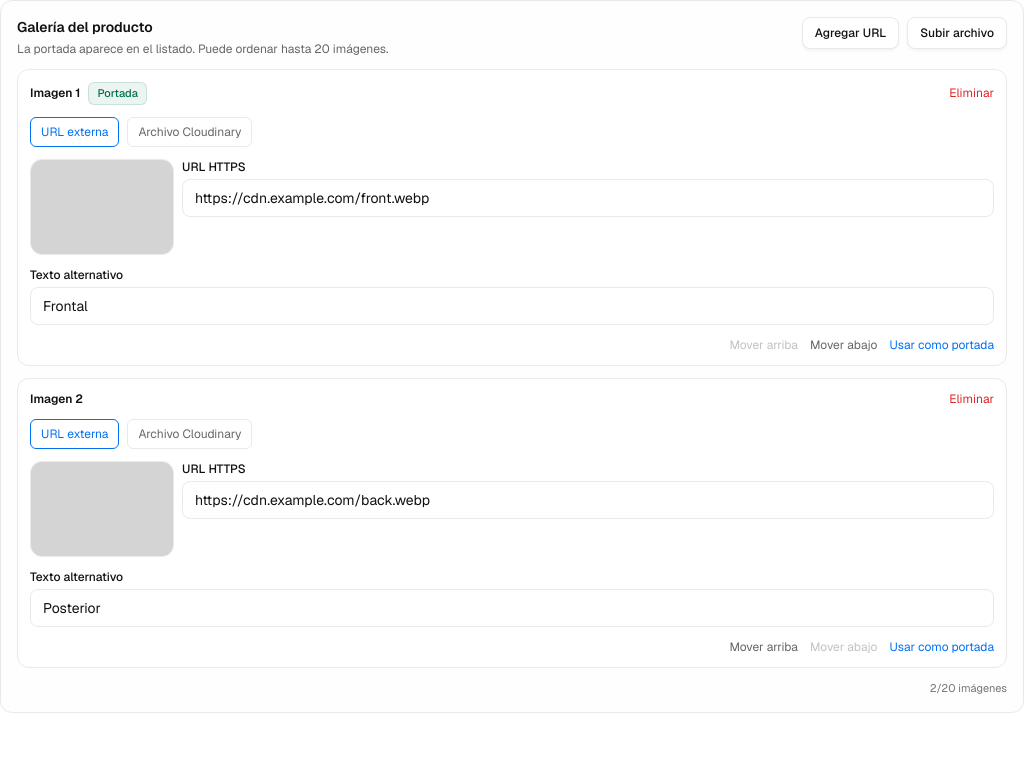
Test case: ProductImagesEditor › permite cambiar portada, ordenar y quitar imágenes
Expected: the text "2/20 imágenes" is shown, [930, 680, 1007, 694]
Click the 2nd button "Usar como portada" at (942, 646), box [890, 638, 994, 654]
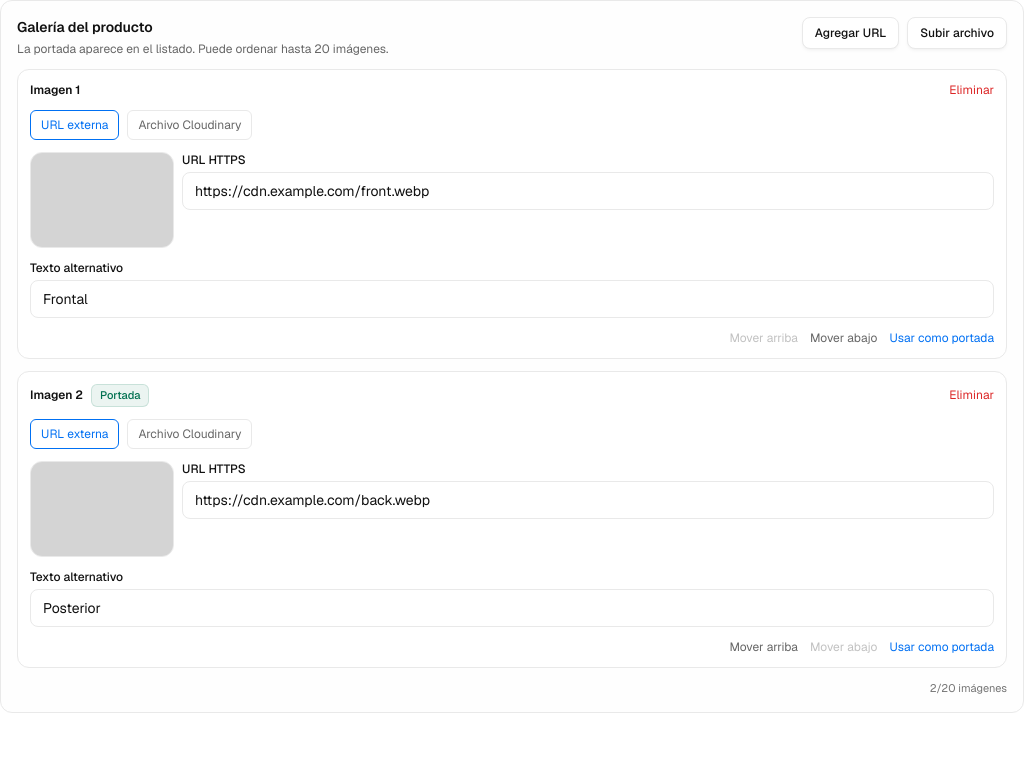
Expected: the text "Portada" is shown once, [91, 384, 150, 406]
Click the 2nd button "Mover arriba" at (764, 646), box [729, 638, 798, 654]
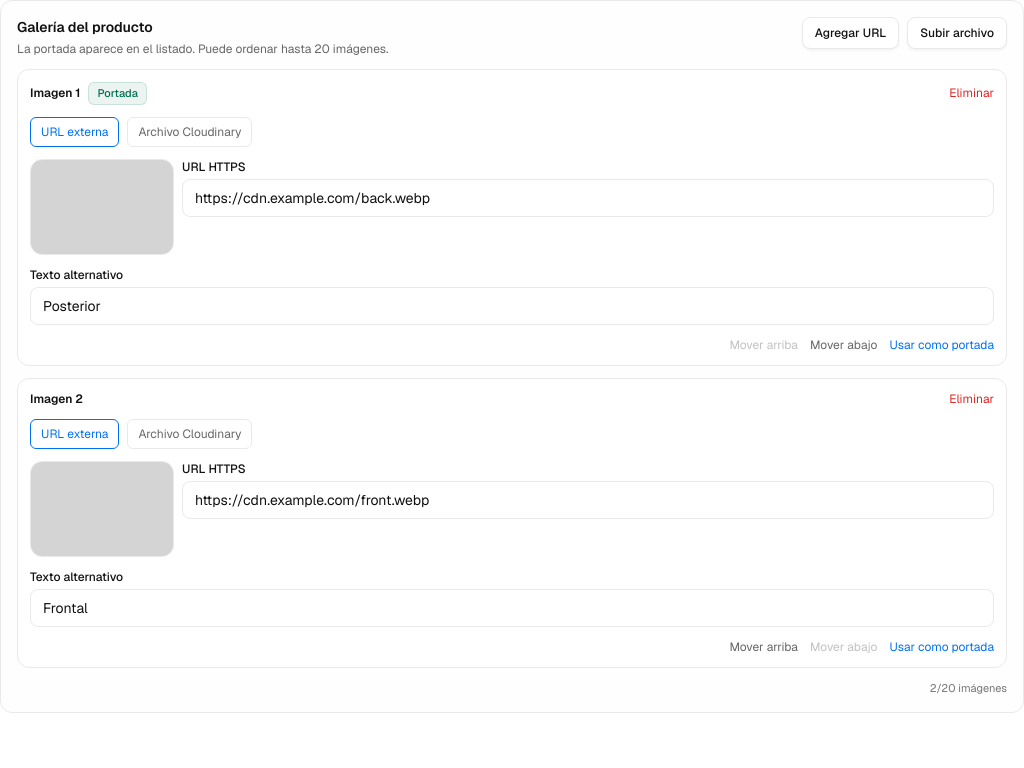
Click the button "Eliminar" in the row of "Imagen 1" at (972, 93), box [949, 85, 994, 101]
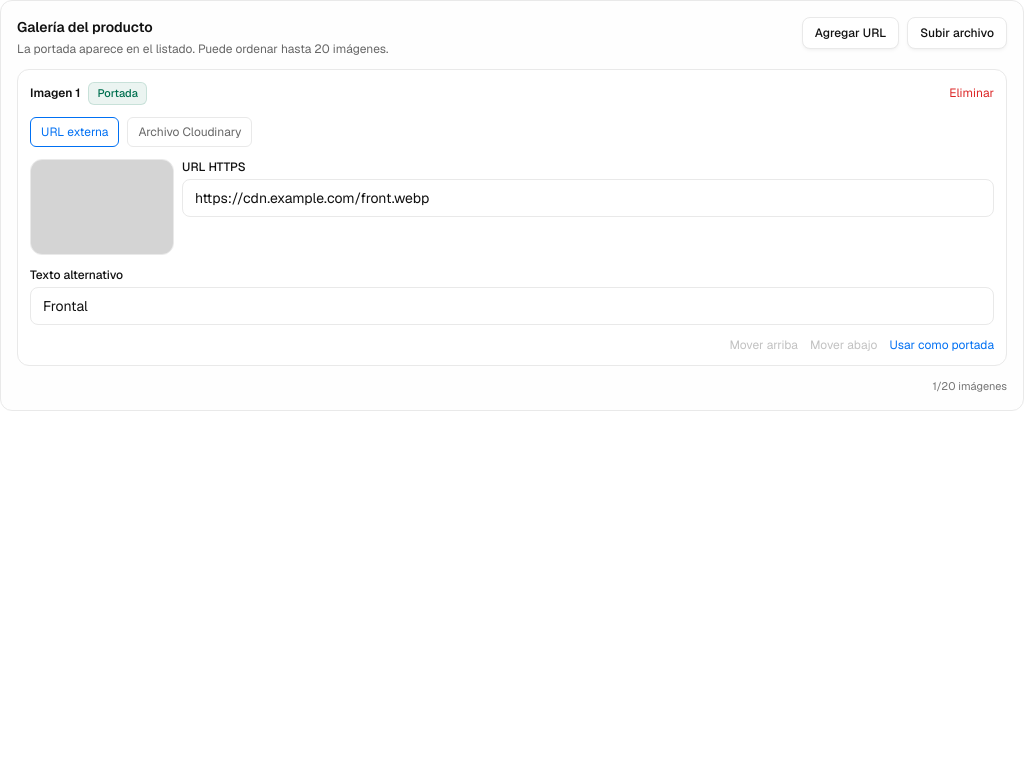
Expected: the text "1/20 imágenes" is shown, [932, 378, 1007, 392]
